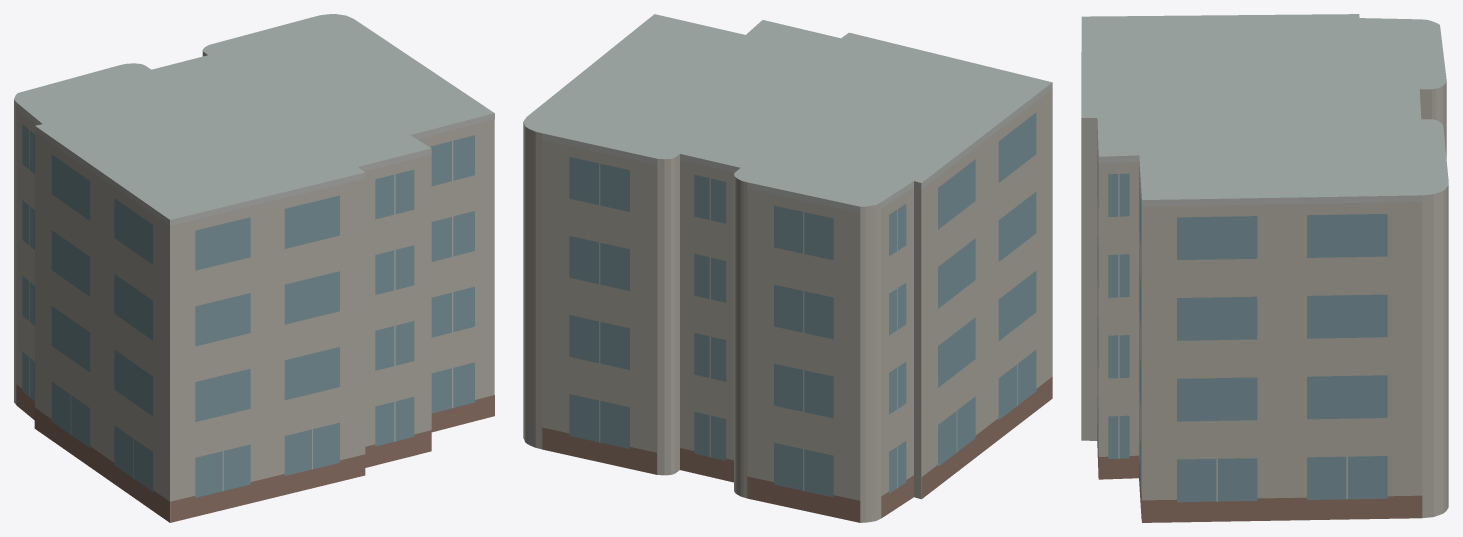
The model's file is survey-upis-32909634.glb.
The picture shows the model from 3 angles, left to right: view 1: azimuth 30°, elevation 25°; view 2: azimuth 150°, elevation 25°; view 3: azimuth 270°, elevation 25°; orthographic projection. The views are drawn at different scales.
Visible parts, largest first — view 1: survey-upis-32909634.tmp; view 2: survey-upis-32909634.tmp; view 3: survey-upis-32909634.tmp.
Part boxes in pixels (bbox=[...]): survey-upis-32909634.tmp: bbox=[14, 14, 494, 522]; survey-upis-32909634.tmp: bbox=[523, 14, 1052, 522]; survey-upis-32909634.tmp: bbox=[1081, 14, 1448, 522].
Bounding box in the file's own units: 15.09 × 12.2 × 12.6.
